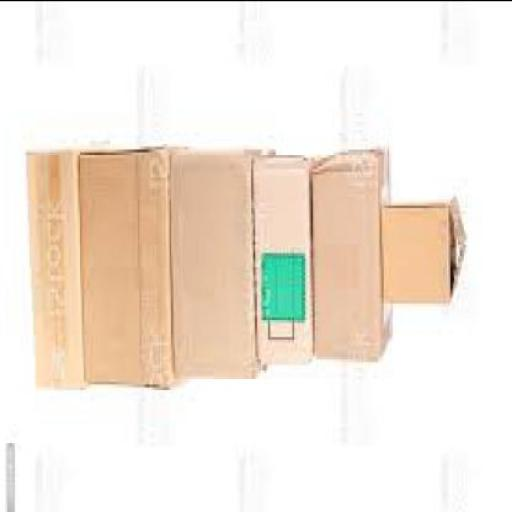cardboard: (82, 151, 178, 389), (174, 152, 272, 380), (311, 150, 394, 364), (253, 160, 318, 366), (34, 151, 85, 392), (384, 201, 470, 305)
